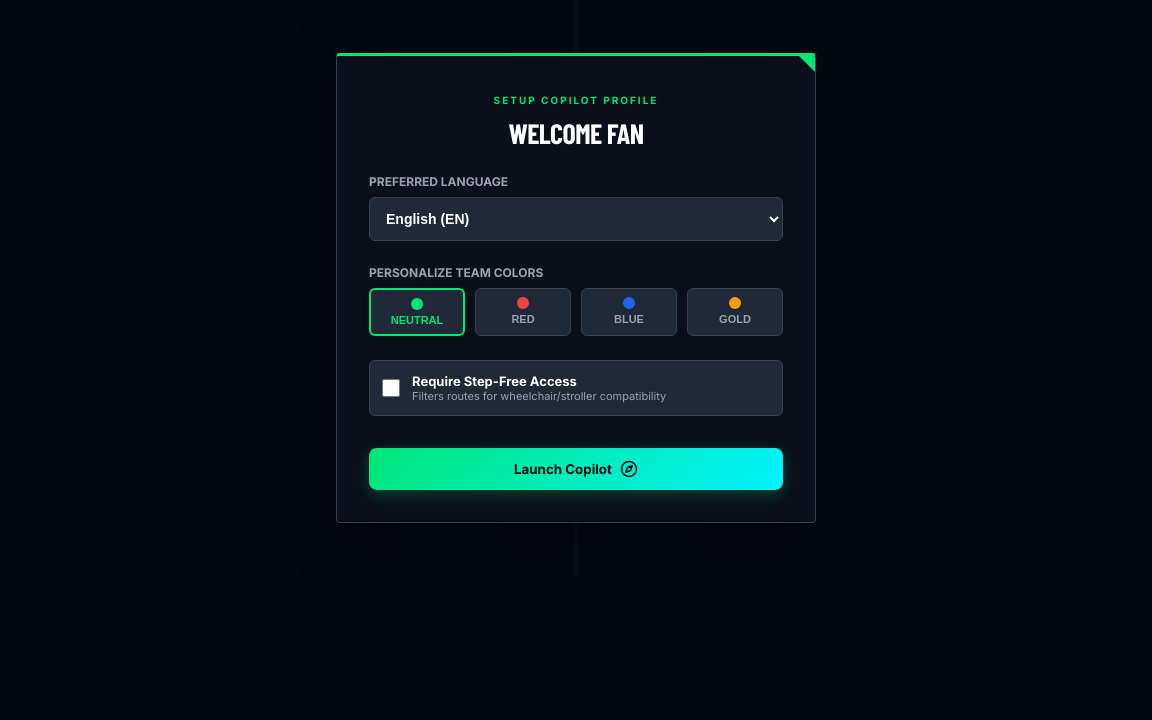
FanChat Component › allows user to switch language and updates welcome text
The image size is (1152, 720).
Select "Español (ES)" in the dropdown at [576, 219], box x1=369 y1=197 x2=783 y2=241
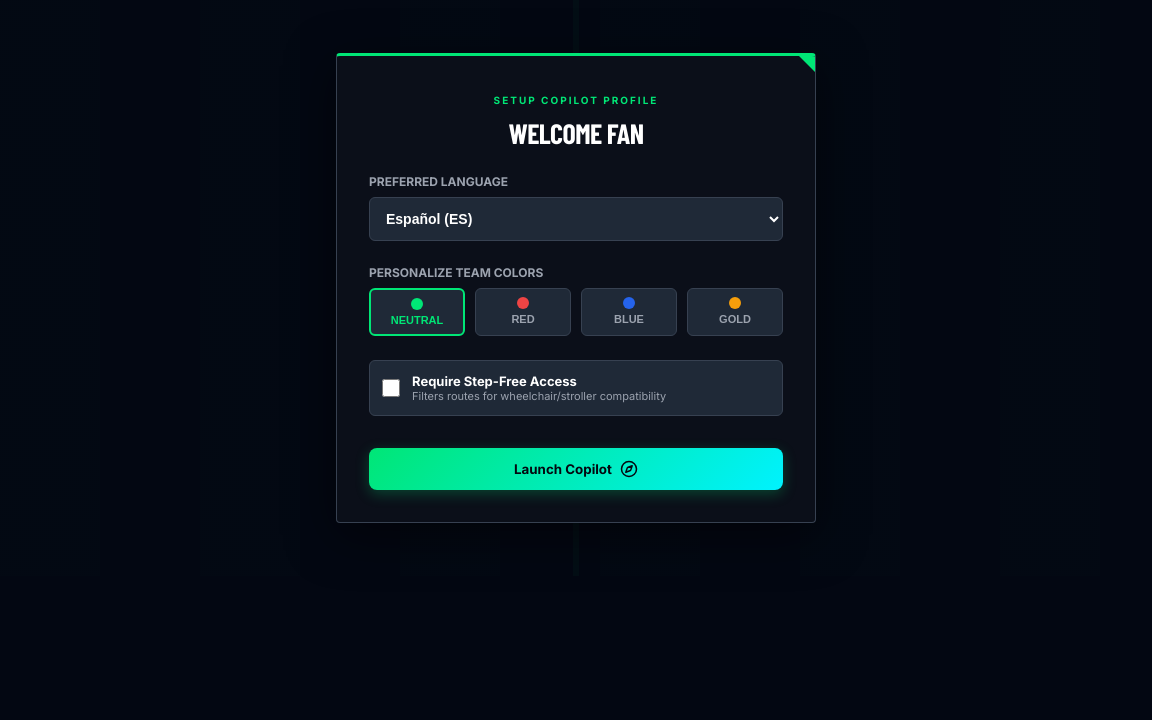
Click the button "Launch Copilot" at [576, 469], box x1=369 y1=448 x2=783 y2=490
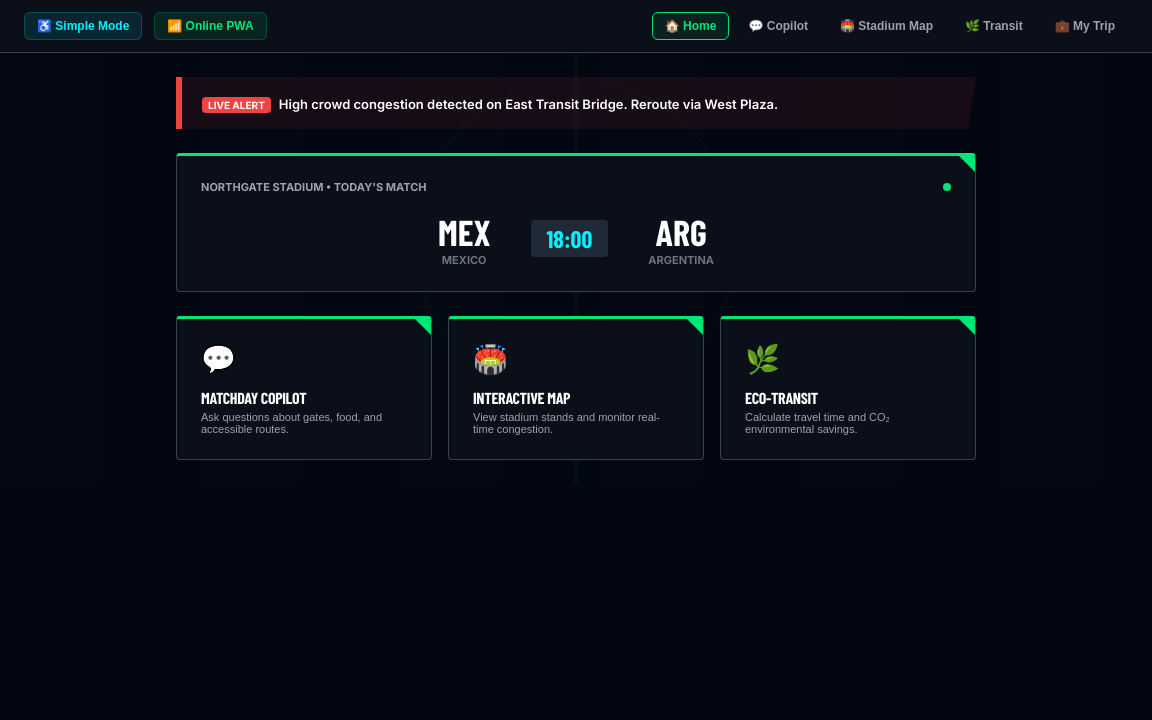
Click the button "💬 Copilot" at [778, 26], box x1=735 y1=12 x2=821 y2=40
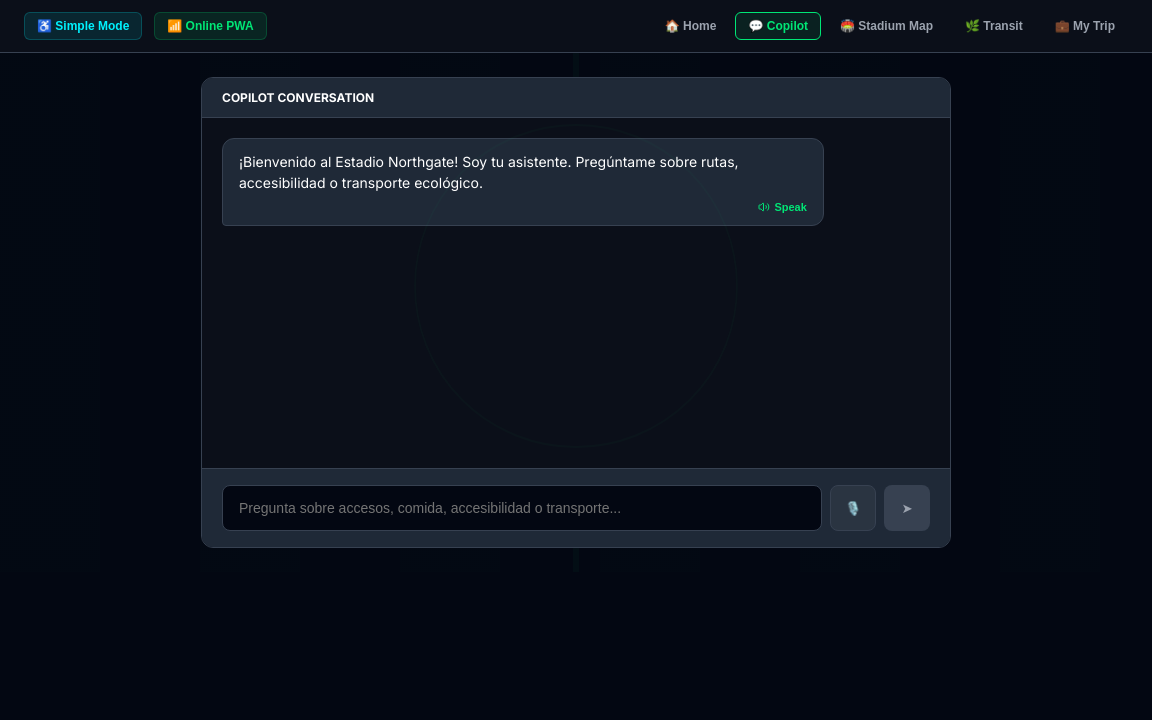
Expected: the text "¡Bienvenido al Estadio Northgate!" is shown, x1=239 y1=153 x2=739 y2=191
